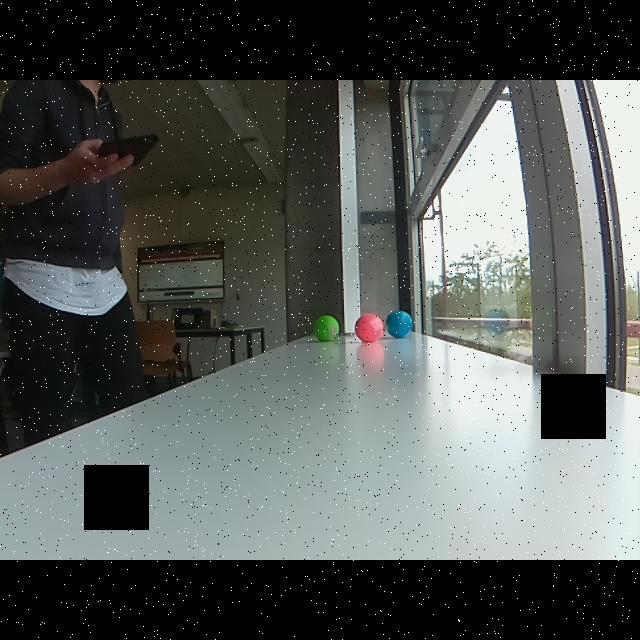ball: (352, 309, 386, 347), (386, 305, 414, 342), (313, 314, 342, 344)
